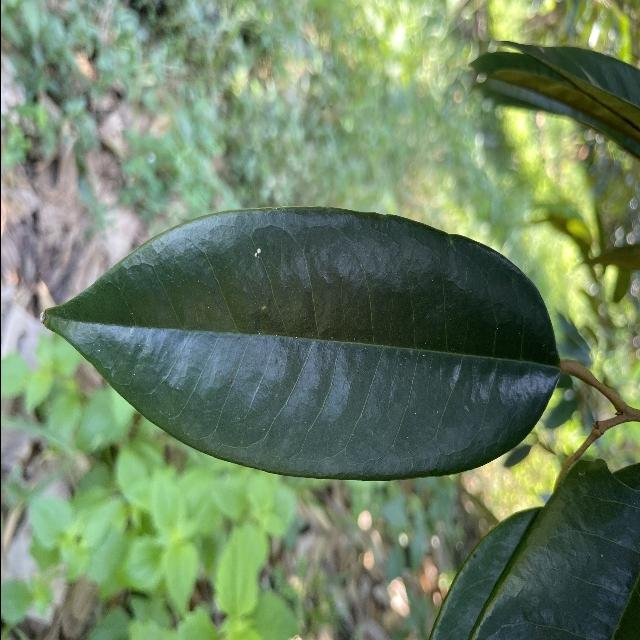No Disease: (31, 197, 575, 489)
